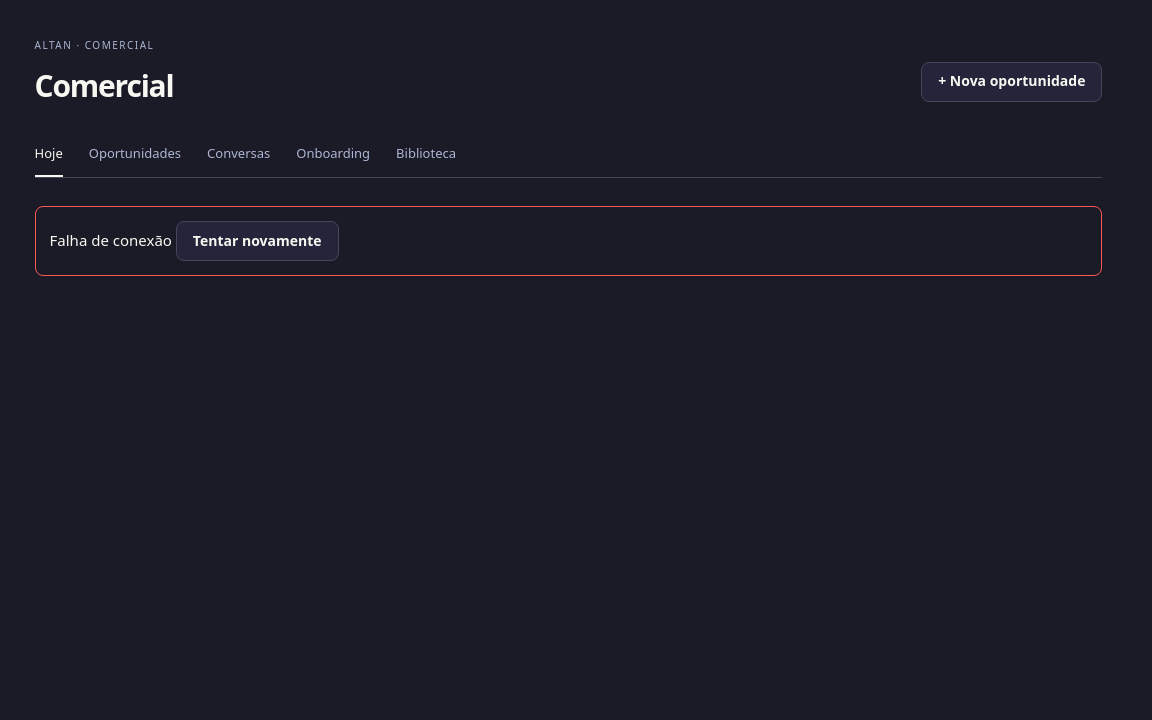
Test case: falha da API é visível e pode ser recuperada
Check: the message shows "Falha de conexão", box x1=50 y1=230 x2=172 y2=250
What coordinates should you click on to do the following:
click the button "Tentar novamente"
I would click on:
 (257, 241)
Its box is x1=176 y1=221 x2=338 y2=261.
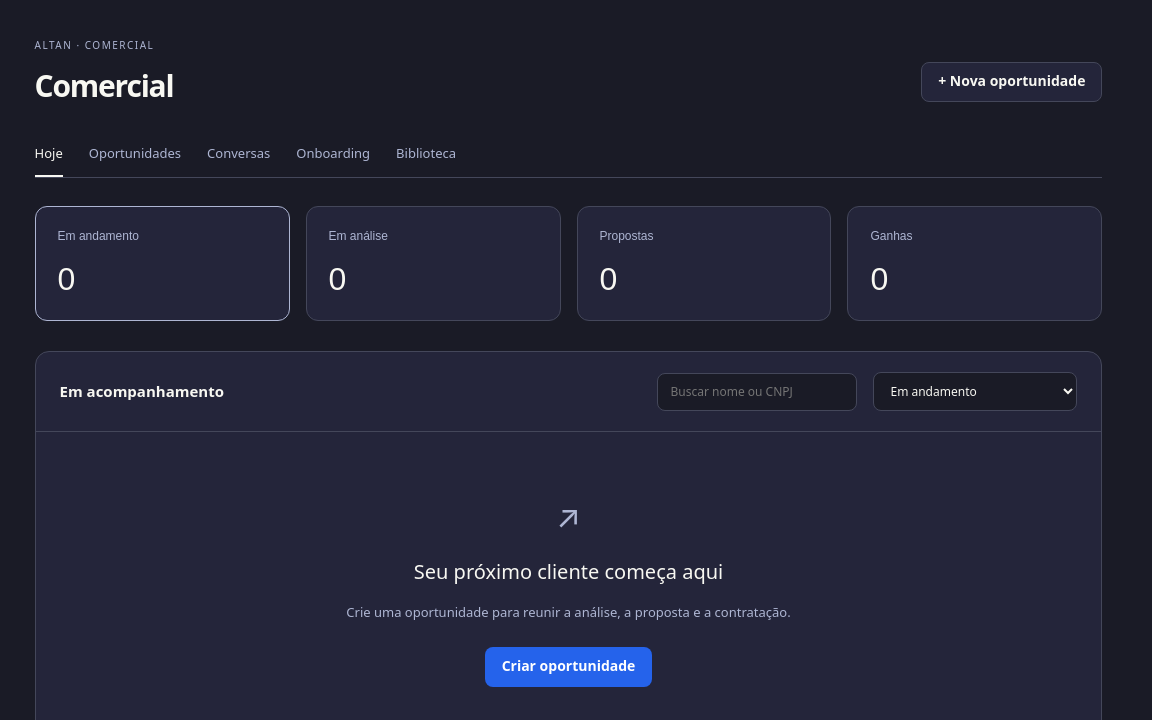
Check: the heading "Seu próximo cliente começa aqui" is shown, box x1=414 y1=558 x2=723 y2=585
